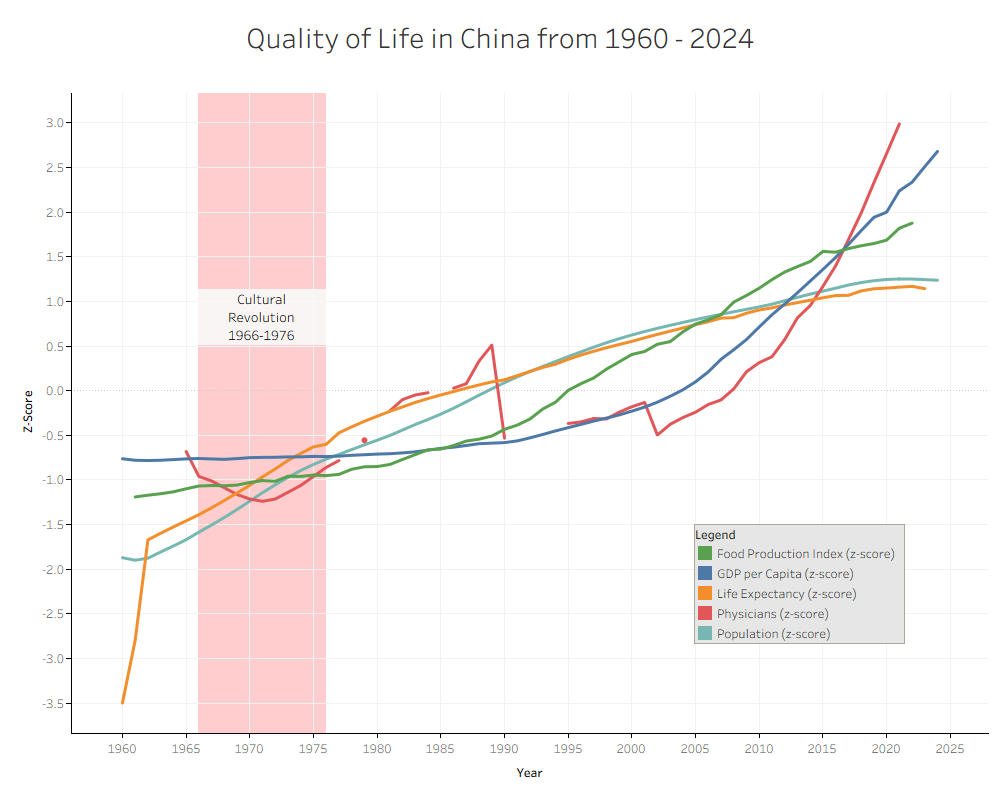

Layout of this report page (visuals, bound fields, positions):
{"tool":"tableau","page":{"name":"Dashboard 1","canvas":[1000,800],"ordinal":0},"visuals":[{"type":"worksheet","title":"Final Z-scores","mark":"Line","cols":["Year"],"box":[8,8,984,784]},{"type":"legend","title":"Final Z-scores","param":"[federated.0cx7j8e0bmk9ne1201sbn0szl10v].[:Measure Names]","box":[694,524,211,122]}]}

Visuals, with their boxes in screenshot pixels (x1, y1, x2, y2), scaled from the page's 1000x800 canvas onto the 1000x800 screenshot:
"Final Z-scores" worksheet (Line marks): x1=8, y1=8, x2=992, y2=792
"Final Z-scores" legend: x1=694, y1=524, x2=905, y2=646
